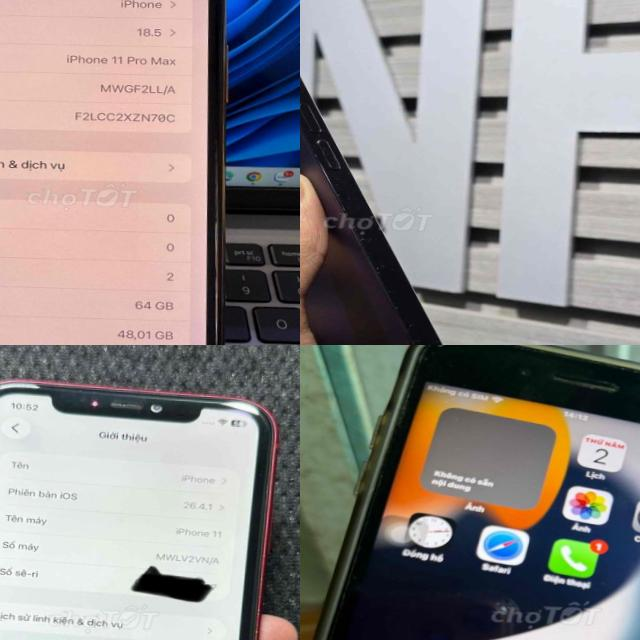gen_11: (0, 0, 227, 345), (0, 381, 276, 640)
gen_14: (300, 1, 505, 345)
gen_7_8: (300, 345, 640, 640), (405, 345, 458, 371)
